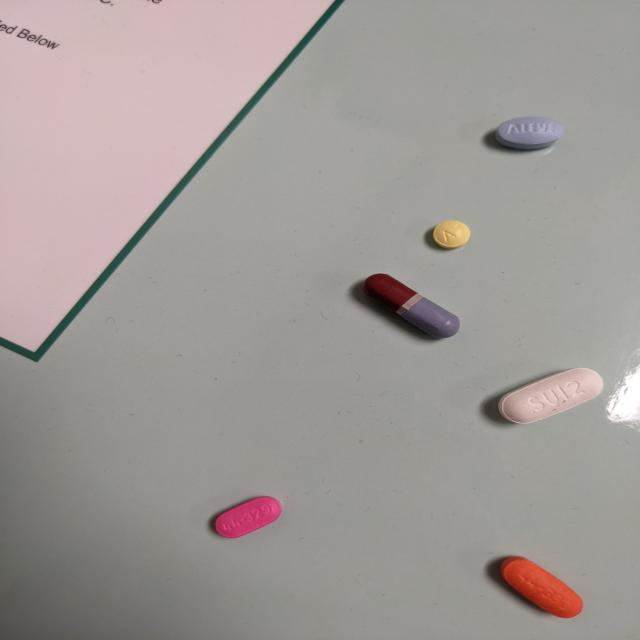non-organic waste: (361, 273, 461, 340), (496, 366, 605, 425), (497, 555, 584, 619), (214, 495, 283, 539), (493, 115, 565, 152), (430, 219, 472, 250)
